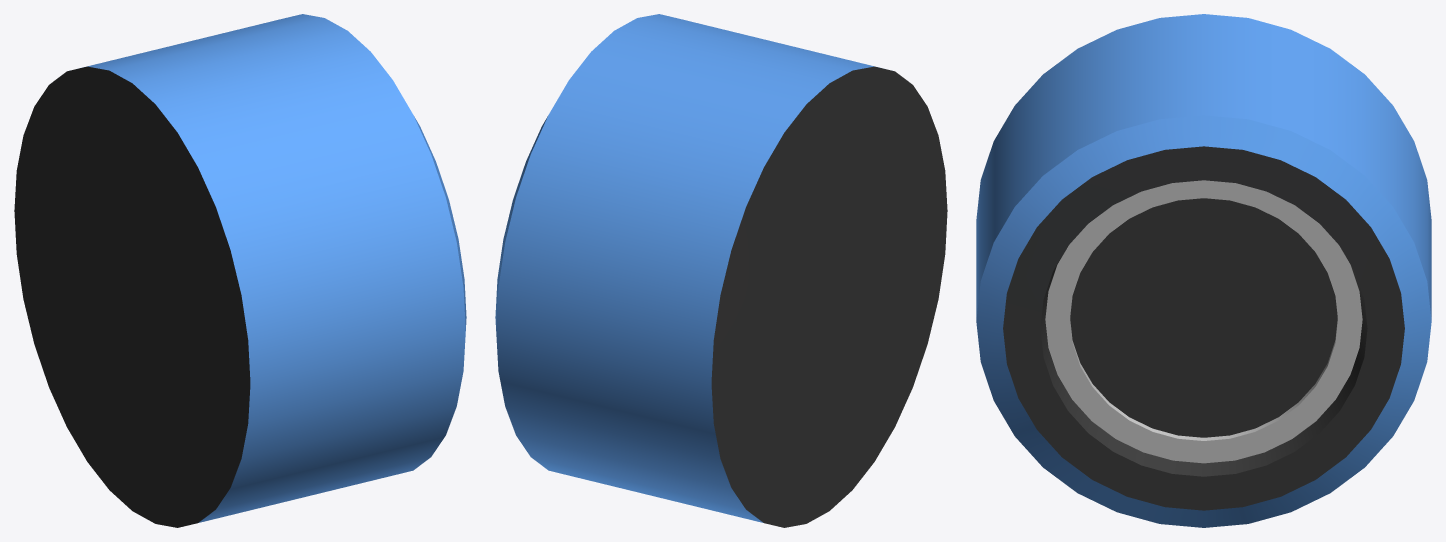
Rendered from scope.dae.
3 renders of one model, left to right at view 1: azimuth 30°, elevation 25°; view 2: azimuth 150°, elevation 25°; view 3: azimuth 270°, elevation 25°, orthographic. The views are drawn at different scales.
Parts seen in each view (by area): view 1: 立方体.003; view 2: 立方体.003; view 3: 立方体.003.
Boxes of the visible parts, box(x1,y1,x2,y2) form: 立方体.003: box(14, 14, 466, 527); 立方体.003: box(495, 14, 947, 527); 立方体.003: box(976, 14, 1431, 527).
Size of the model in its own units: 0.0188 by 0.0334 by 0.0334.
Materials: 1 (1 with a texture image).
